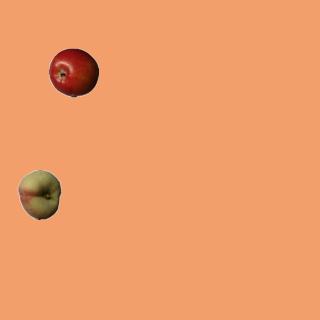Apple Braeburn: (48, 47, 98, 97)
Peach Flat: (14, 169, 64, 219)
